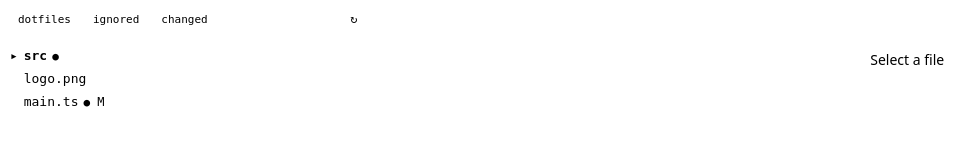
Test case: expansion by mouse › clicking a dir fetches its children and renders them one level deeper
Click the list item with class "tree-row" showing "▸ src ●": (34, 56) [10,48,59,63]
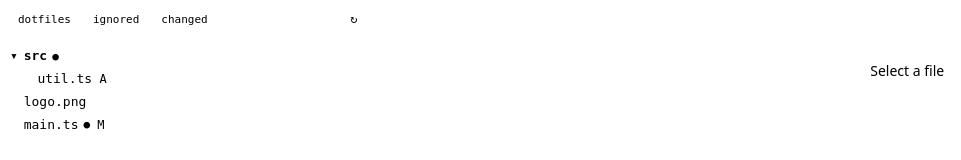
Check: the text "src" is shown, box [24,47,47,66]
Check: the list item with class "tree-row" is expanded, box [10,48,59,63]
